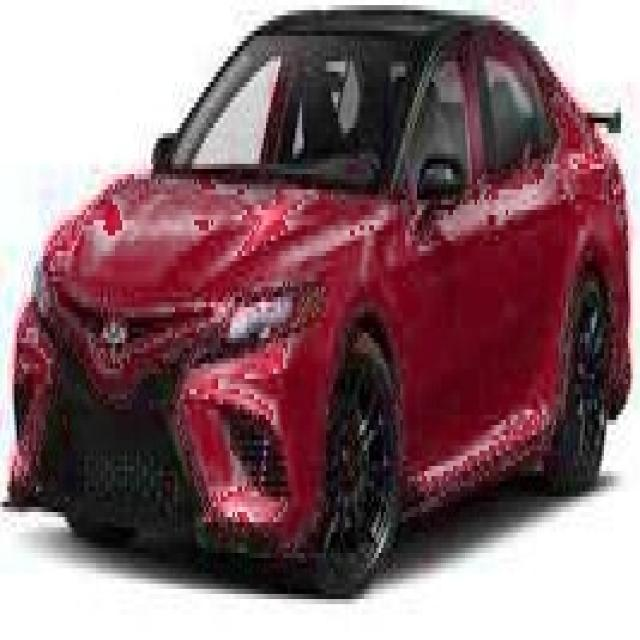maroon: (17, 11, 640, 568)
